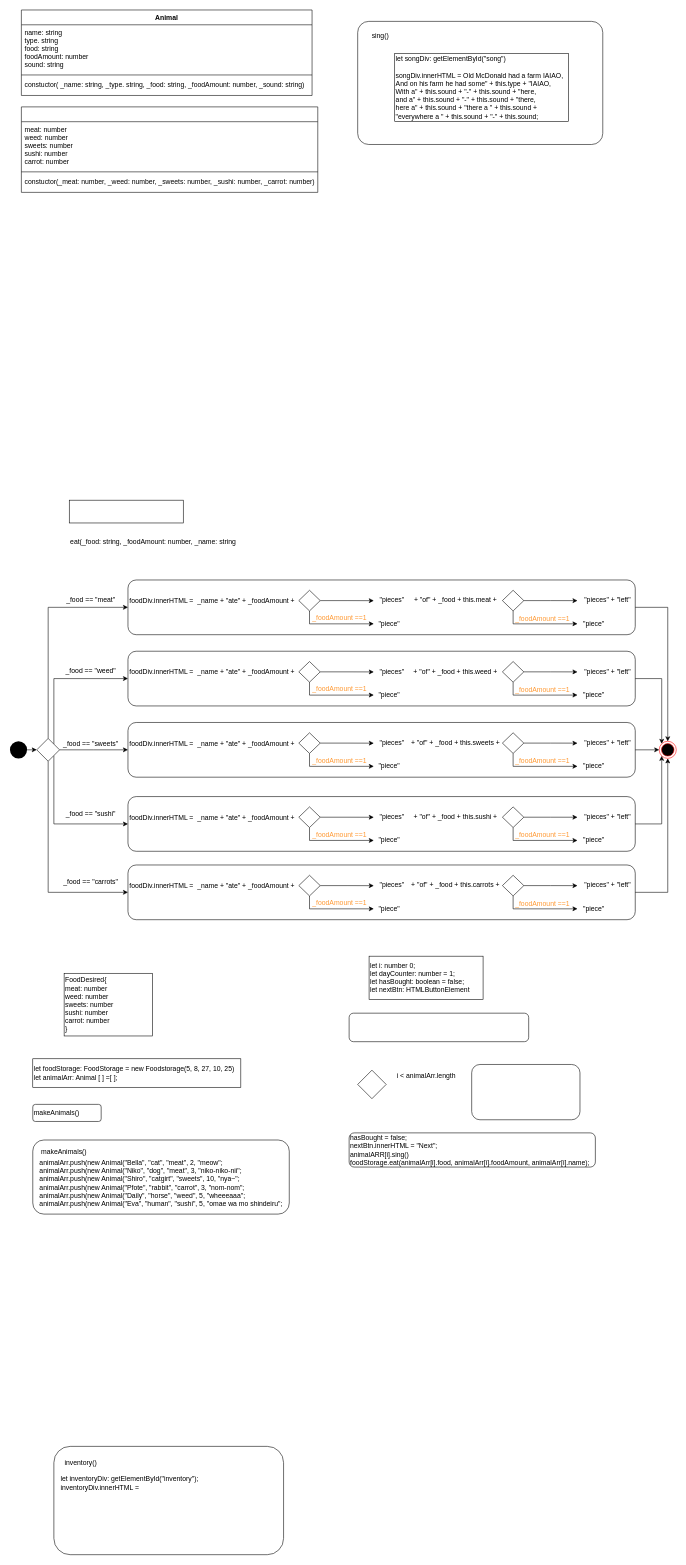
This 686x1565 diagram has some shape labels left out. Here are the shapes that lost their labels. From the top down, the box of each, then its label:
(21, 106, 318, 192): FoodStorage
(69, 500, 183, 523): let feedDiv: getElementById("food")
(349, 1013, 529, 1042): nextBtn:innerHTML = "Start", nextBtn.addEventListener("click", function())
(471, 1064, 580, 1120): buyfood(); nextBtn.innerHTML = "Next Day" alert() i = 0; dayCounter++;
